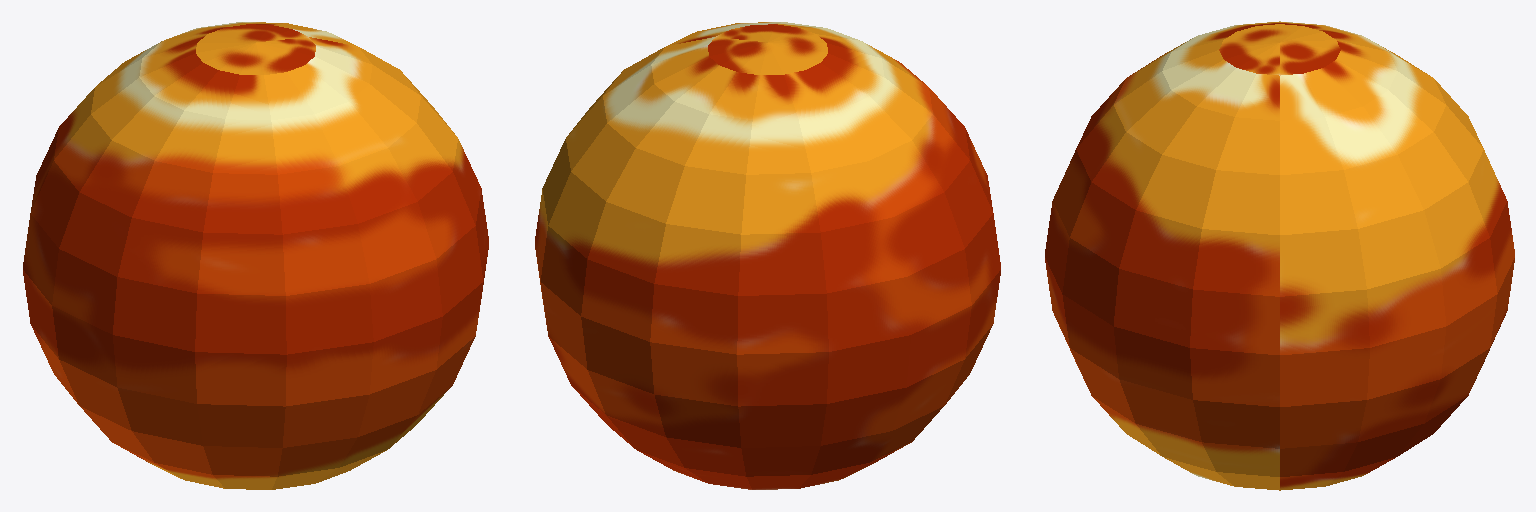
3 views of the same model, side by side, from view 1: azimuth 30°, elevation 25°; view 2: azimuth 150°, elevation 25°; view 3: azimuth 270°, elevation 25° (orthographic).
Parts seen in each view (by area): view 1: 球; view 2: 球; view 3: 球.
Part boxes in pixels (x1,y1,x2,y2): 球: (23, 22, 488, 489); 球: (535, 22, 1000, 489); 球: (1045, 21, 1514, 490).
Bounding box in the file's own units: 20 × 20 × 20.
Materials: 1 (1 with a texture image).